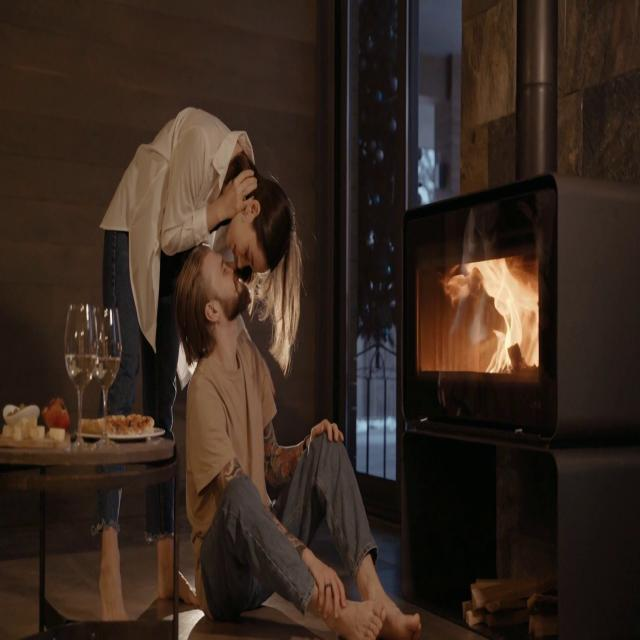Fire: (455, 254, 546, 370)
